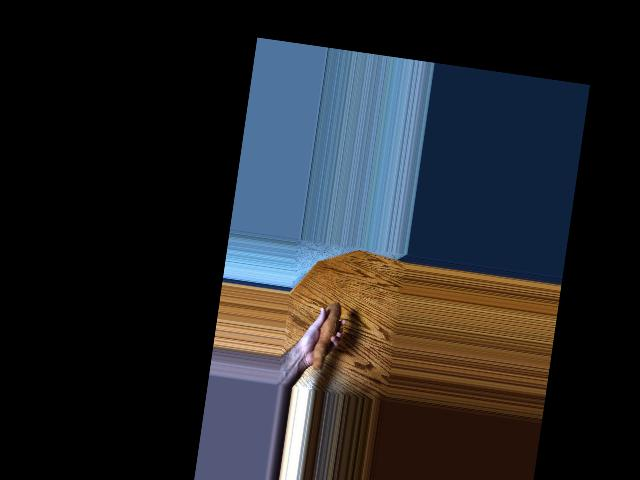sweet_potato: (303, 297, 343, 379)
